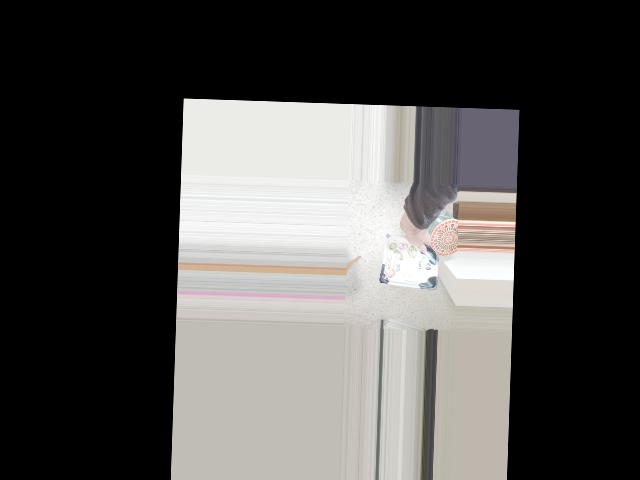cheese: (379, 216, 439, 277)
